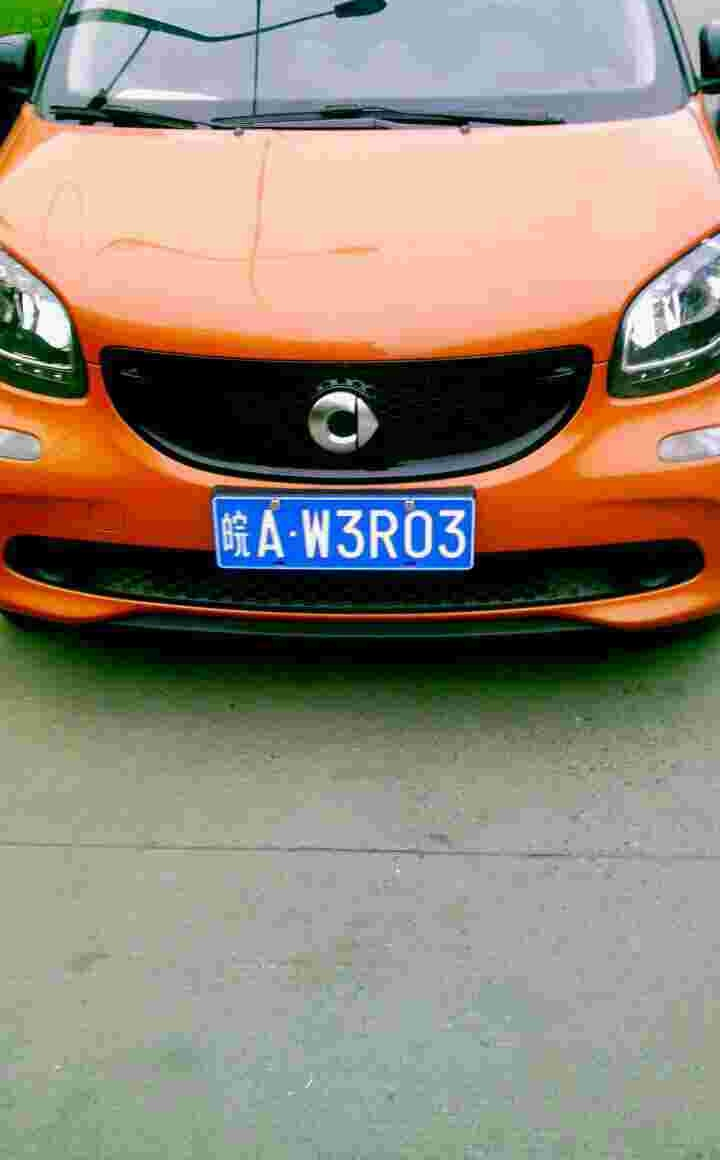plate: (215, 493, 481, 575)
